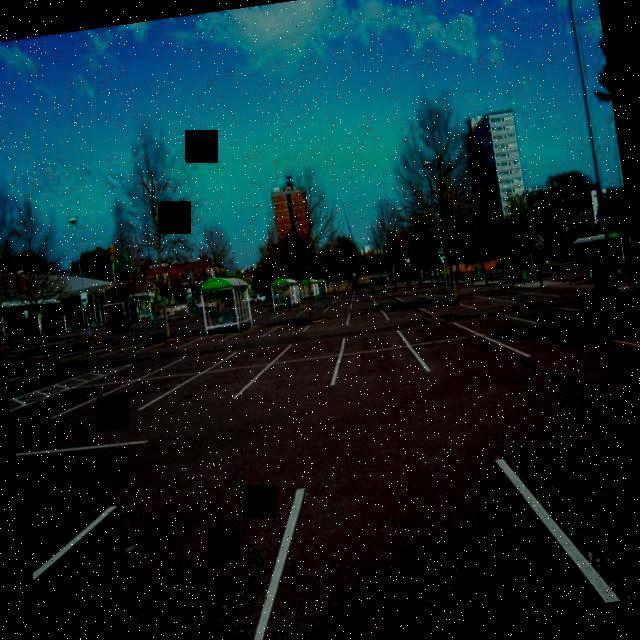space-empty: (250, 452, 621, 640), (33, 485, 307, 640), (49, 370, 208, 417), (137, 361, 273, 410), (230, 350, 348, 399), (404, 332, 536, 375), (329, 339, 434, 388)
